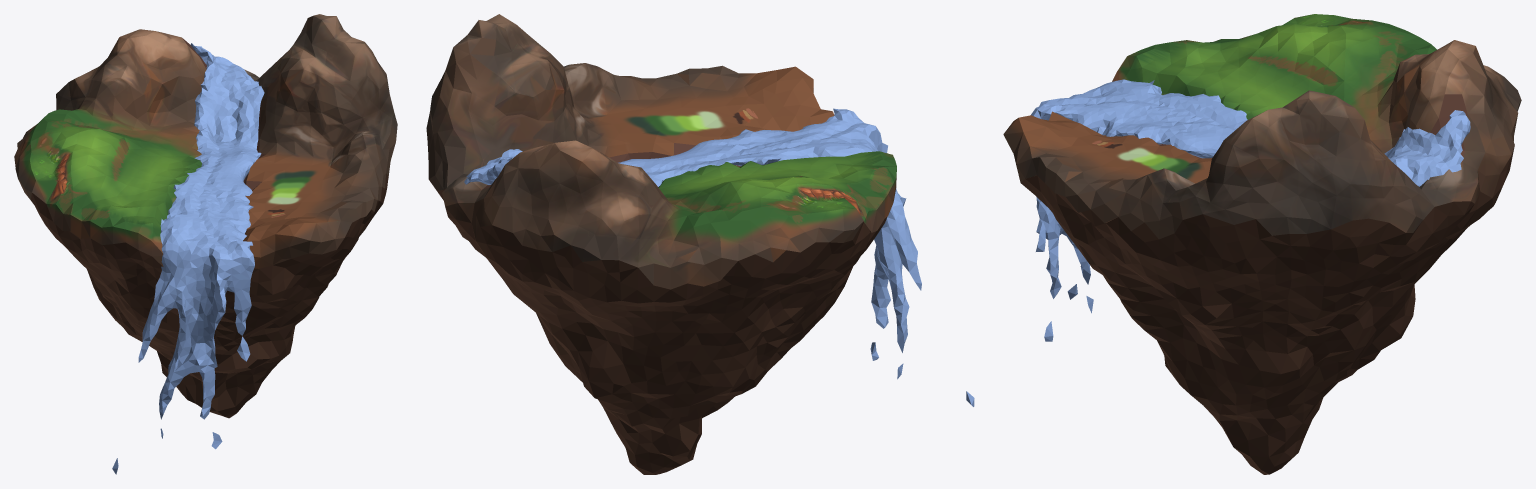
Rendered from floating-island-2.glb.
3 renders of one model, left to right at view 1: azimuth 30°, elevation 25°; view 2: azimuth 150°, elevation 25°; view 3: azimuth 270°, elevation 25°, orthographic. The views are drawn at different scales.
Parts seen in each view (by area): view 1: WorldTop, WorldRiver, WorldBottom; view 2: WorldTop, WorldBottom, WorldRiver, WorldRiverBed; view 3: WorldTop, WorldBottom, WorldRiver, WorldRiverBed.
Part boxes in pixels (box(x1,y1,x2,y2)): WorldTop: box(14, 14, 397, 268); WorldRiver: box(112, 43, 264, 474); WorldBottom: box(30, 172, 389, 418); WorldTop: box(426, 14, 896, 289); WorldBottom: box(432, 184, 887, 474); WorldRiver: box(464, 108, 974, 406); WorldRiverBed: box(482, 143, 740, 189); WorldTop: box(1003, 14, 1521, 239); WorldBottom: box(1021, 146, 1514, 474); WorldRiver: box(1031, 79, 1470, 341); WorldRiverBed: box(1159, 94, 1467, 161).
Size of the model in its own units: 15.35 by 15.18 by 15.72.
Materials: 4 (1 with a texture image).
